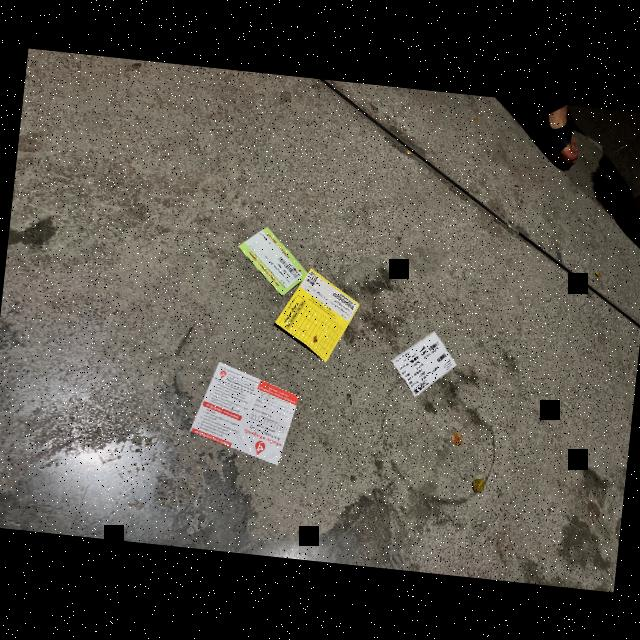scrap_paper: (190, 364, 299, 467), (268, 261, 362, 370), (378, 319, 462, 412), (231, 216, 312, 299)
